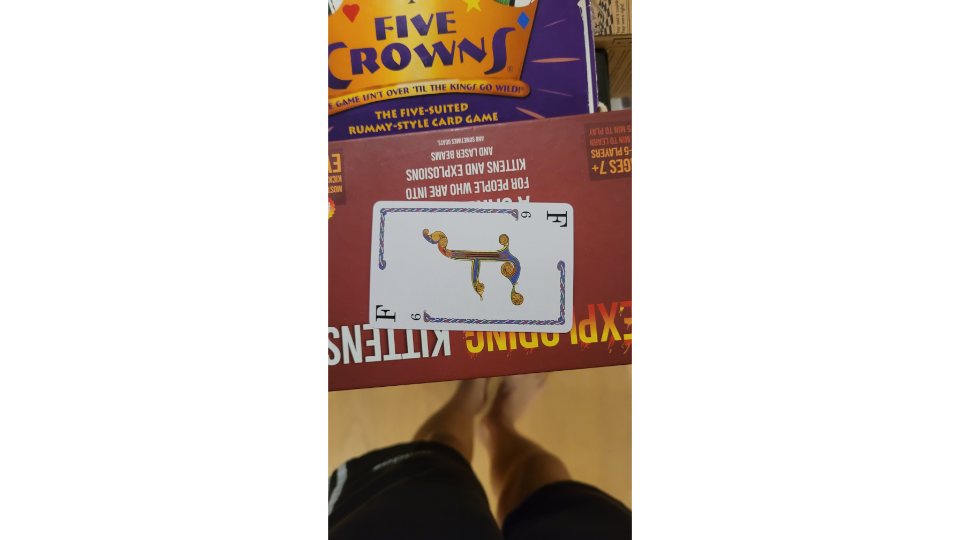F: (364, 195, 578, 337)
